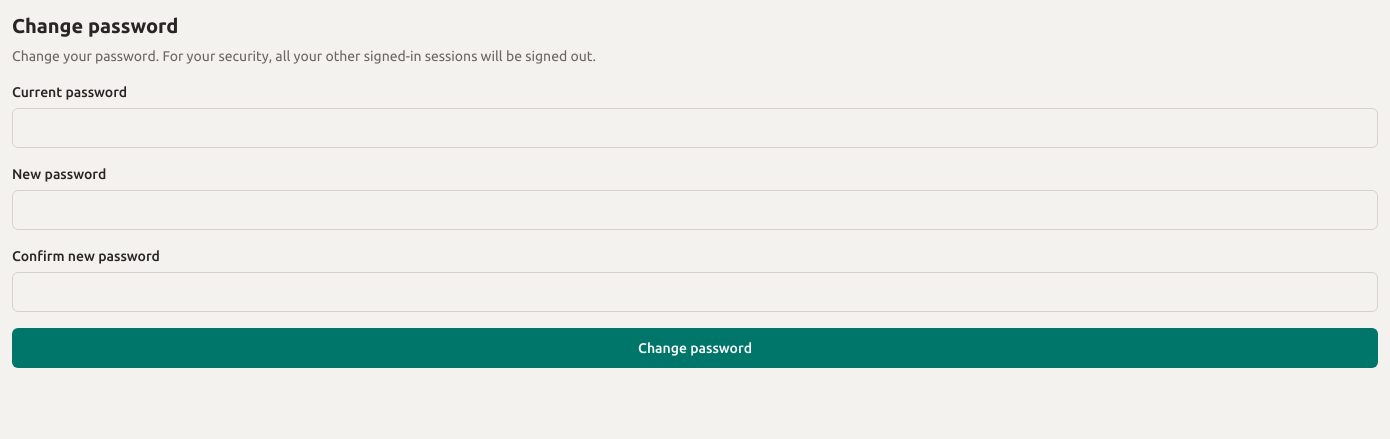
Test: ChangePasswordForm — step-up 401 › first 401 → refresh() once → retry rejects 400 → WEAK banner, not step-up (NIT 4)
The width and height of the screenshot is (1390, 439).
Type "current-pw-12" into the password field labelled "Current password" at x=695, y=128, box [12,108,1378,148]
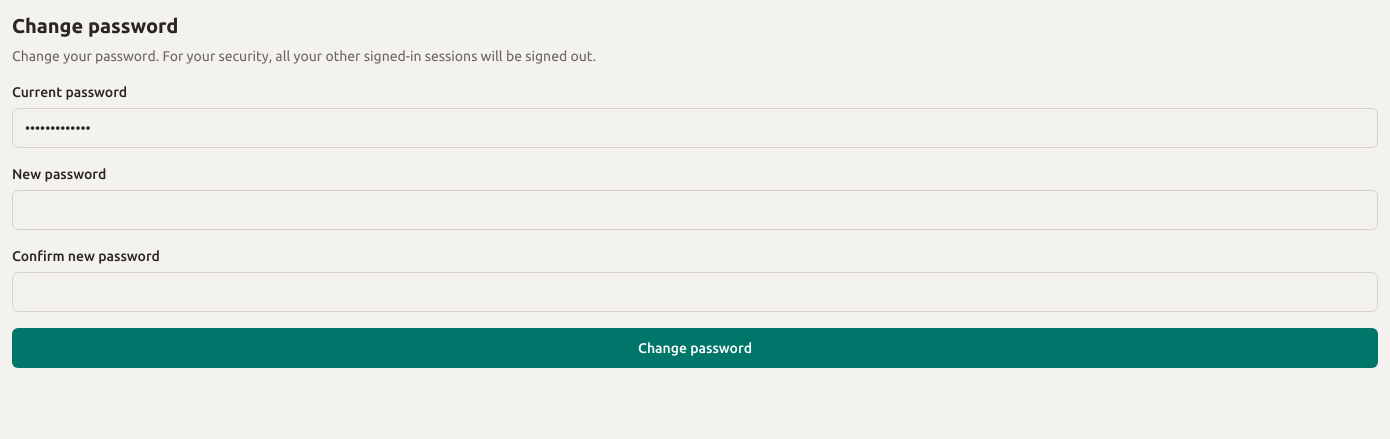
Type "new-password-12+" into the password field labelled "New password" at x=695, y=210, box [12,190,1378,230]
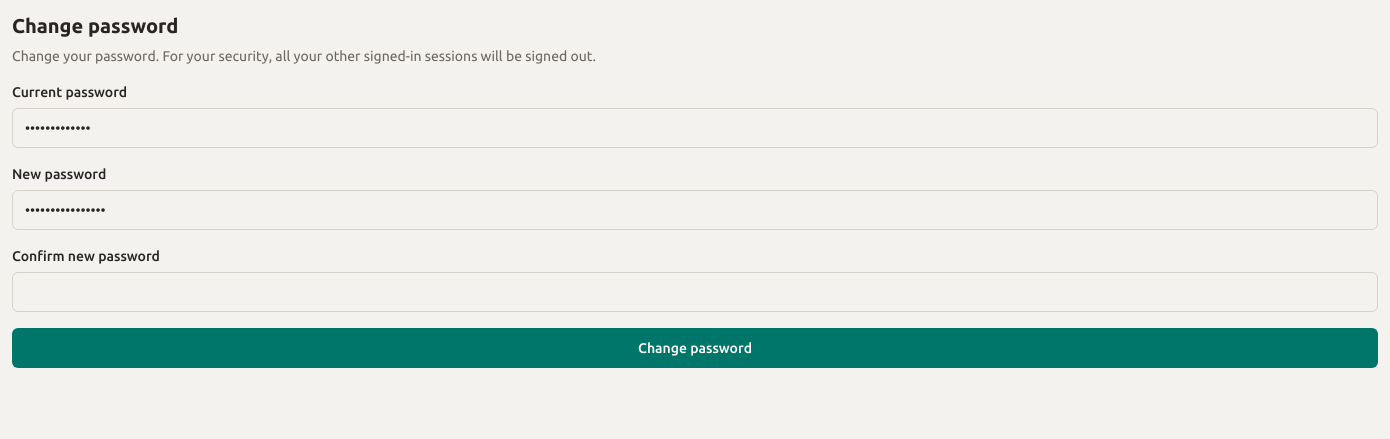
Type "new-password-12+" into the password field labelled "Confirm new password" at x=695, y=292, box [12,272,1378,312]
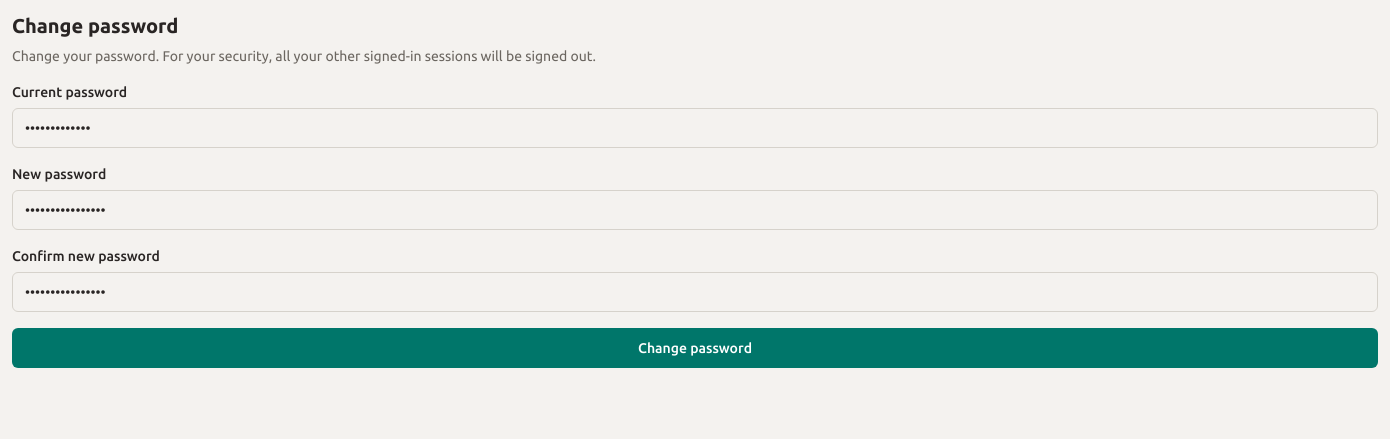
Submit the form
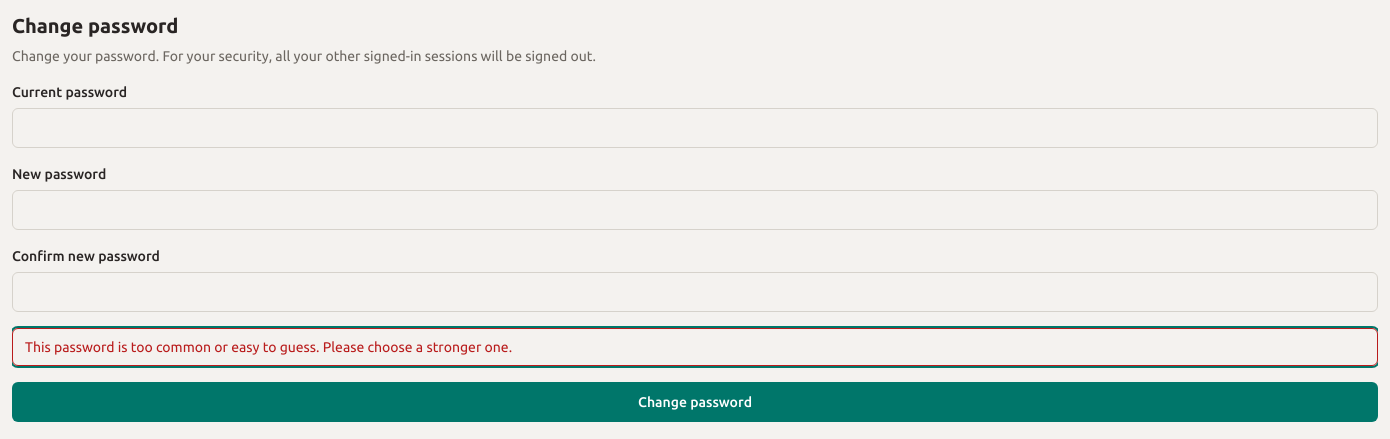
Expected: the text "This password is too common or easy to guess. Please choose a stronger one." is shown, [12,328,1378,366]
